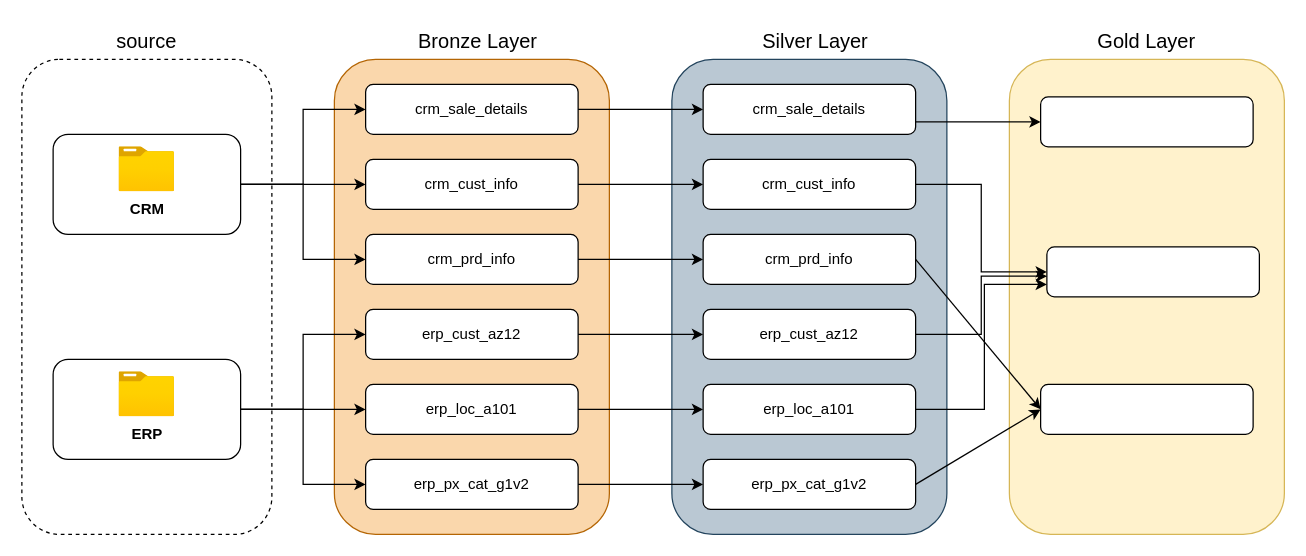
This 1306x556 diagram has some shape labels left out. Each missing label, with the centre of its shape:
"dim_cusotmer" goes at point 1152,271.
"dim_product" goes at point 1146,408.
"fact_sales" goes at point 1146,121.
